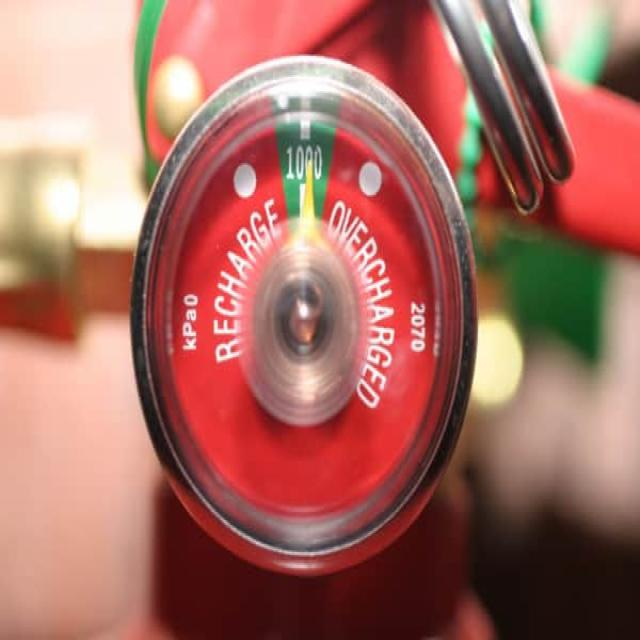pressure gauge: (132, 57, 476, 573)
